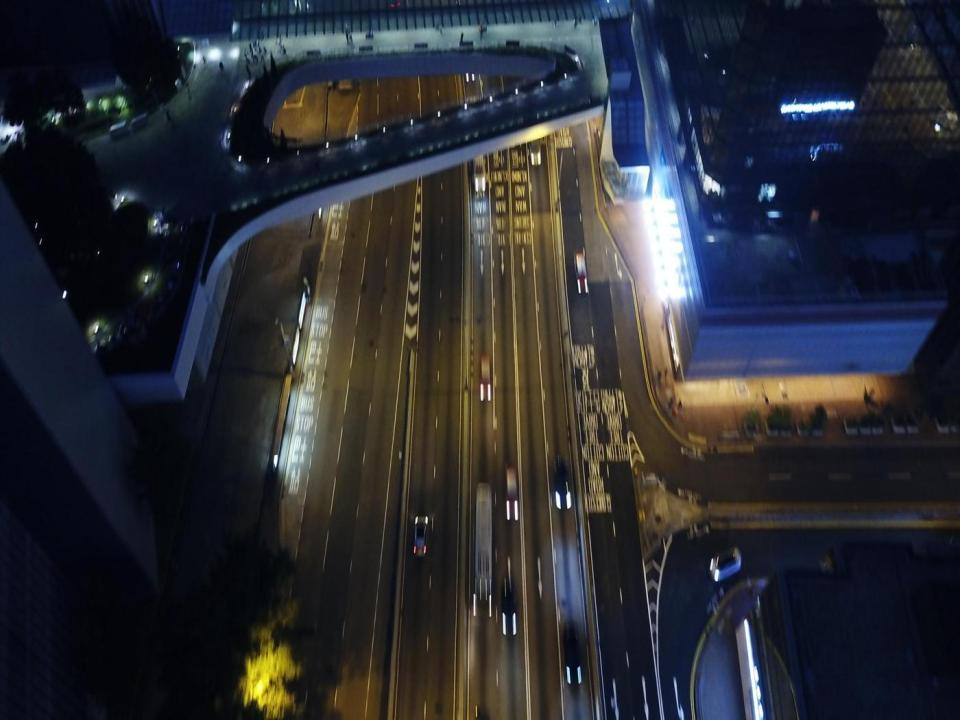bus: (473, 482, 492, 617)
car: (710, 545, 740, 584), (563, 622, 581, 686), (553, 454, 571, 510), (501, 579, 516, 635), (506, 467, 518, 521), (473, 145, 486, 192), (413, 516, 428, 556), (574, 252, 588, 293), (529, 119, 541, 165), (480, 355, 490, 400), (464, 45, 475, 81)
